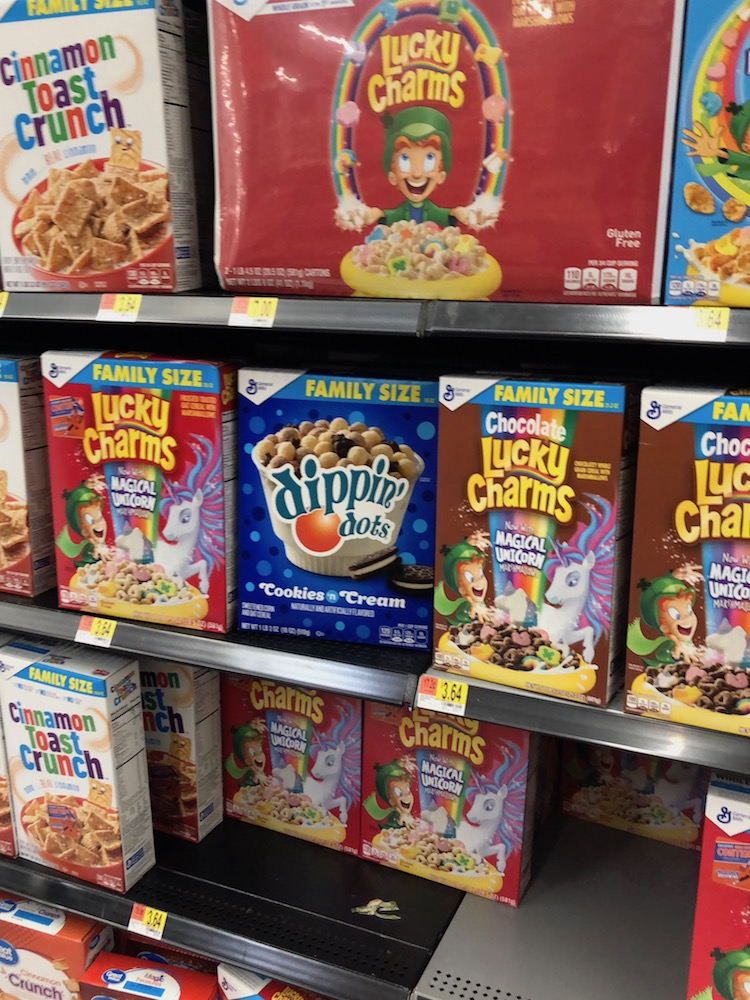Dippin Dots Cookies & Cream -568929378: (232, 382, 434, 644)
